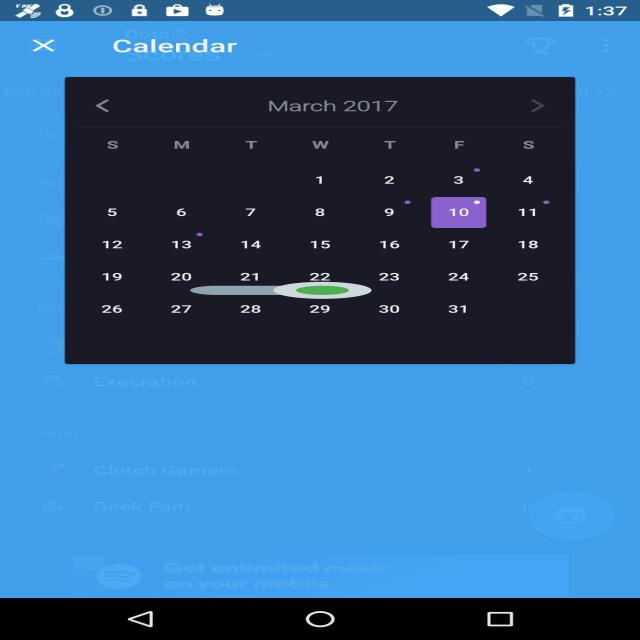social proof: (190, 275, 372, 306)
